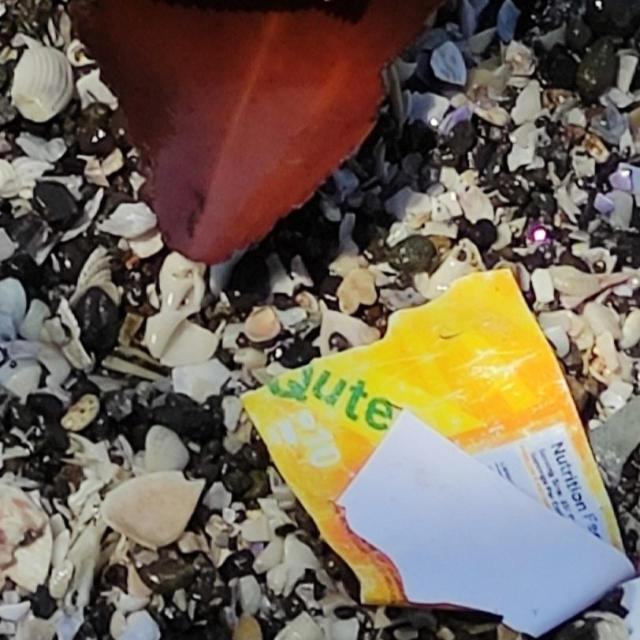plastic_waste: (234, 267, 636, 635)
